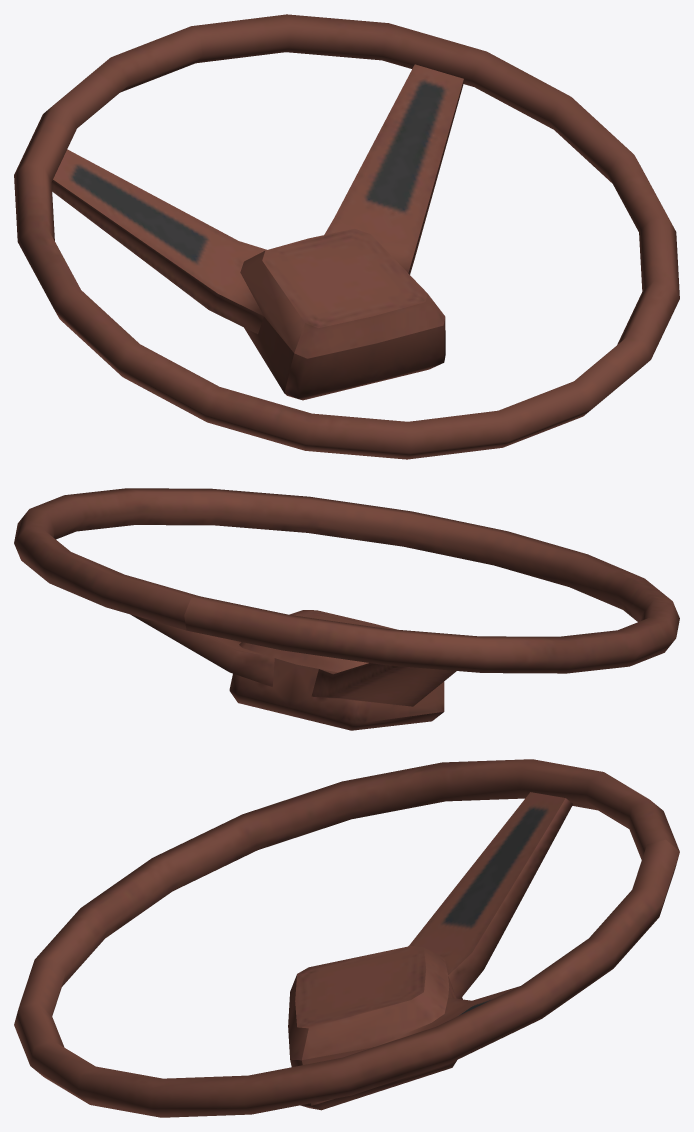
Rendered from TruckHandle.obj.
3 renders of one model, top to bottom at view 1: azimuth 30°, elevation 25°; view 2: azimuth 150°, elevation 25°; view 3: azimuth 270°, elevation 25°, orthographic. The views are drawn at different scales.
Parts seen in each view (by area): view 1: 2852_08226_Handle_14336_65592_LOD0.001; view 2: 2852_08226_Handle_14336_65592_LOD0.001; view 3: 2852_08226_Handle_14336_65592_LOD0.001.
Boxes of the visible parts, x1=… form: 2852_08226_Handle_14336_65592_LOD0.001: x1=14, y1=14, x2=679, y2=459; 2852_08226_Handle_14336_65592_LOD0.001: x1=14, y1=488, x2=679, y2=730; 2852_08226_Handle_14336_65592_LOD0.001: x1=14, y1=759, x2=679, y2=1117.
Size of the model in its own units: 0.4091 by 0.1543 by 0.3933.
